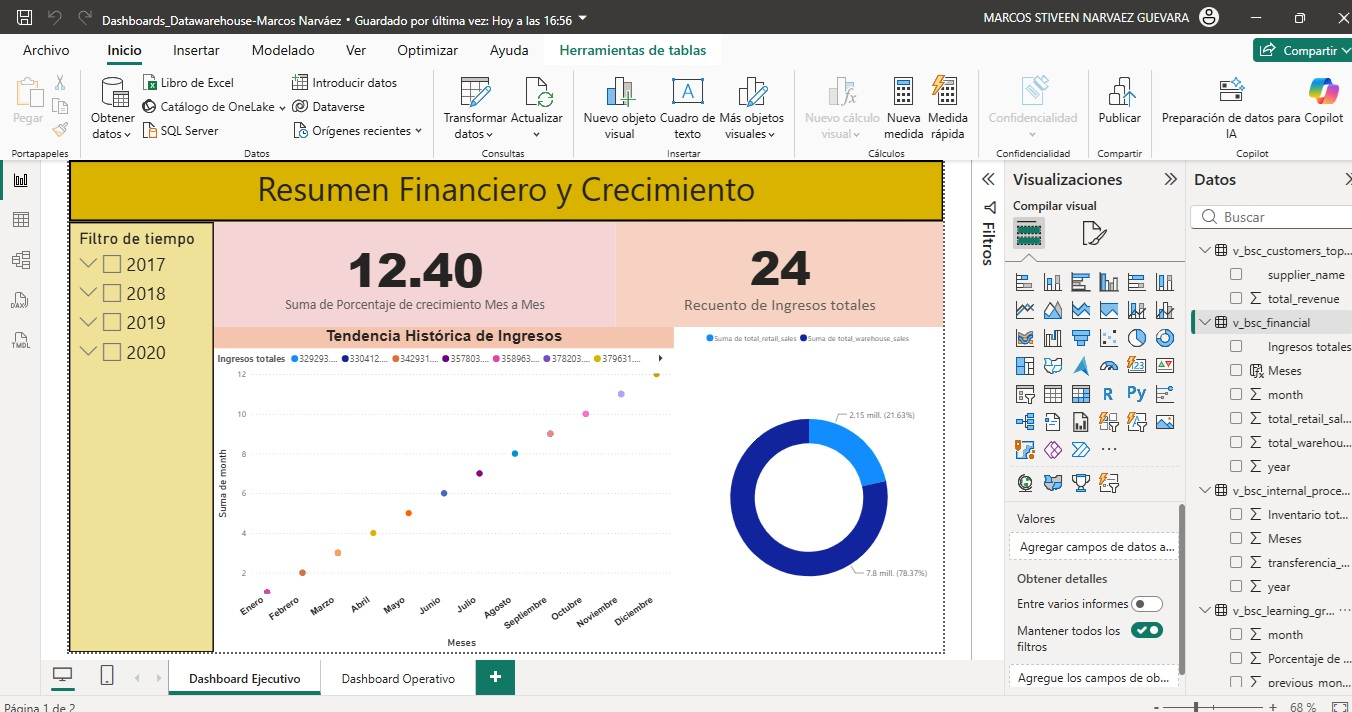

Layout of this report page (visuals, bound fields, positions):
{"tool":"powerbi","page":{"name":"Dashboard Ejecutivo","canvas":[1280,720],"ordinal":0},"visuals":[{"type":"textbox","box":[0,0,1280,89.8],"z":2000},{"type":"slicer","fields":{"Values":["v_bsc_financial.year","v_bsc_financial.Nombre Mes"]},"box":[0,90,211.7,630],"z":7000},{"type":"card","fields":{"Values":["CountNonNull(v_bsc_financial.total_revenue)"]},"box":[800,90,480,155],"z":7001},{"type":"card","fields":{"Values":["Sum(v_bsc_learning_growth.Porcentaje de crecimiento maternal)"]},"box":[211.7,90,588.3,155],"z":7002},{"type":"lineChart","title":"Tendencia Histórica de Ingresos","fields":{"Category":["v_bsc_financial.Nombre Mes"],"Series":["v_bsc_financial.Ingresos totales"],"Y":["Sum(v_bsc_financial.month)"]},"box":[211.7,245,673.3,475],"z":7003},{"type":"donutChart","fields":{"Y":["Sum(v_bsc_financial.total_retail_sales)","Sum(v_bsc_financial.total_warehouse_sales)"]},"box":[885,245,395,475],"z":7004}]}

Visuals, with their boxes on the page's 1280x720 design canvas (x1, y1, x2, y2). These are canvas units, not pixel positions in the 1352x712 screenshot, which may show the page scaled, cropped or inside an application window:
textbox: box=[0, 0, 1280, 90]
slicer - v_bsc_financial.year x v_bsc_financial.Nombre Mes: box=[0, 90, 212, 720]
card - CountNonNull(v_bsc_financial.total_revenue): box=[800, 90, 1280, 245]
card - Sum(v_bsc_learning_growth.Porcentaje de crecimiento maternal): box=[212, 90, 800, 245]
"Tendencia Histórica de Ingresos" lineChart: box=[212, 245, 885, 720]
donutChart - Sum(v_bsc_financial.total_retail_sales) x Sum(v_bsc_financial.total_warehouse_sales): box=[885, 245, 1280, 720]
